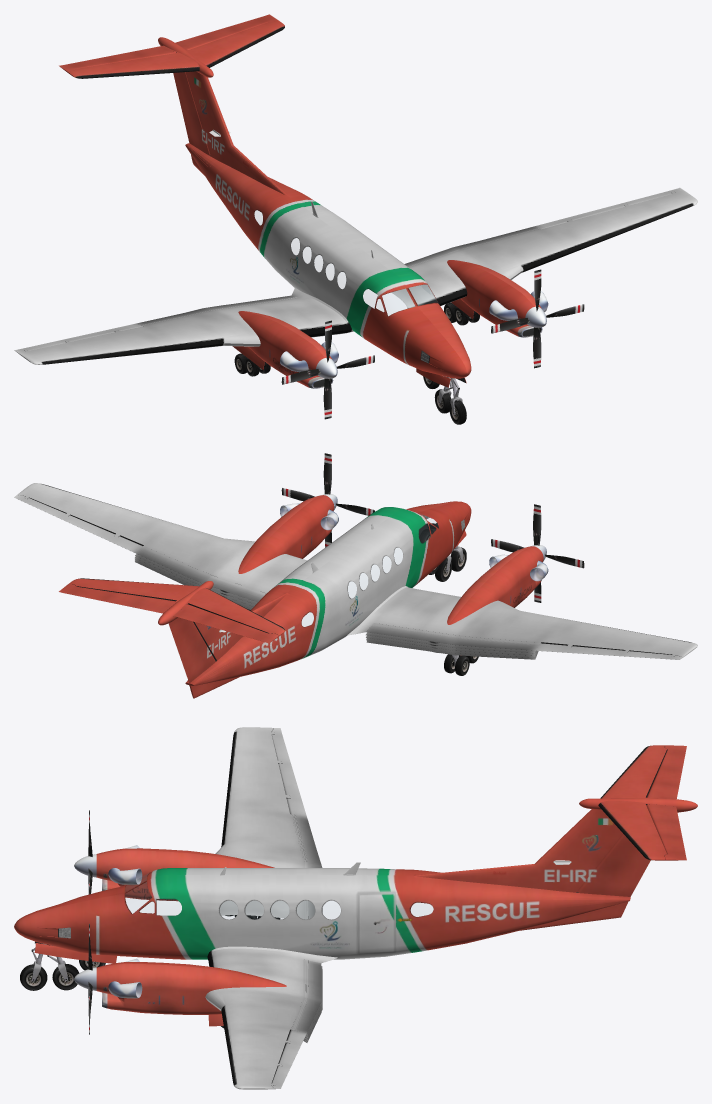
The model's file is IrishCG.gltf.
3 renders of one model, top to bottom at view 1: azimuth 30°, elevation 25°; view 2: azimuth 150°, elevation 25°; view 3: azimuth 270°, elevation 25°, orthographic. The views are drawn at different scales.
Visible parts, largest first — view 1: Exterior, Pose_flaps_0, Spin_1, Spin_0, Pose_gear_2, XLive_2, Pose_gear_3, XLive_4, XLive_3, XLive_1; view 2: Exterior, Pose_flaps_0, XLive_2, Pose_flaps_1, XLive_4, XLive_3, Pose_flaps_2, XLive_1, Spin_0, Spin_1, XLive_0, Pose_flaps_3 (+3 smaller); view 3: Exterior, XLive_2, Pose_flaps_0, XLive_4, XLive_3, Pose_gear_2, XLive_0, Pose_gear_3, XLive_1, Spin_1, Spin_0.
Part boxes in pixels (bbox=[...]): Exterior: bbox=[17, 20, 697, 388]; Pose_flaps_0: bbox=[136, 226, 540, 326]; Spin_1: bbox=[491, 269, 584, 368]; Spin_0: bbox=[281, 320, 374, 419]; Pose_gear_2: bbox=[234, 298, 479, 413]; XLive_2: bbox=[173, 72, 210, 155]; Pose_gear_3: bbox=[232, 301, 473, 424]; XLive_4: bbox=[175, 14, 278, 49]; XLive_3: bbox=[59, 46, 175, 72]; XLive_1: bbox=[535, 187, 682, 229]; Exterior: bbox=[17, 483, 697, 698]; Pose_flaps_0: bbox=[136, 546, 540, 650]; XLive_2: bbox=[168, 617, 215, 683]; Pose_flaps_1: bbox=[135, 546, 539, 653]; XLive_4: bbox=[59, 584, 175, 613]; XLive_3: bbox=[175, 604, 278, 643]; Pose_flaps_2: bbox=[135, 547, 539, 655]; XLive_1: bbox=[14, 495, 142, 552]; Spin_0: bbox=[491, 504, 584, 602]; Spin_1: bbox=[281, 453, 374, 547]; XLive_0: bbox=[535, 643, 682, 659]; Pose_flaps_3: bbox=[135, 548, 537, 657]; Exterior: bbox=[14, 727, 697, 1089]; XLive_2: bbox=[577, 834, 650, 896]; Pose_flaps_0: bbox=[291, 814, 321, 1032]; XLive_4: bbox=[646, 804, 686, 860]; XLive_3: bbox=[647, 745, 686, 799]; Pose_gear_2: bbox=[34, 915, 257, 1026]; XLive_0: bbox=[271, 728, 306, 816]; Pose_gear_3: bbox=[20, 916, 280, 1026]; XLive_1: bbox=[271, 1030, 306, 1089]; Spin_1: bbox=[74, 923, 96, 1034]; Spin_0: bbox=[74, 810, 96, 894].
Bounding box in the file's own units: 17.66 × 4.36 × 14.14.
4 materials, 4 textured.
